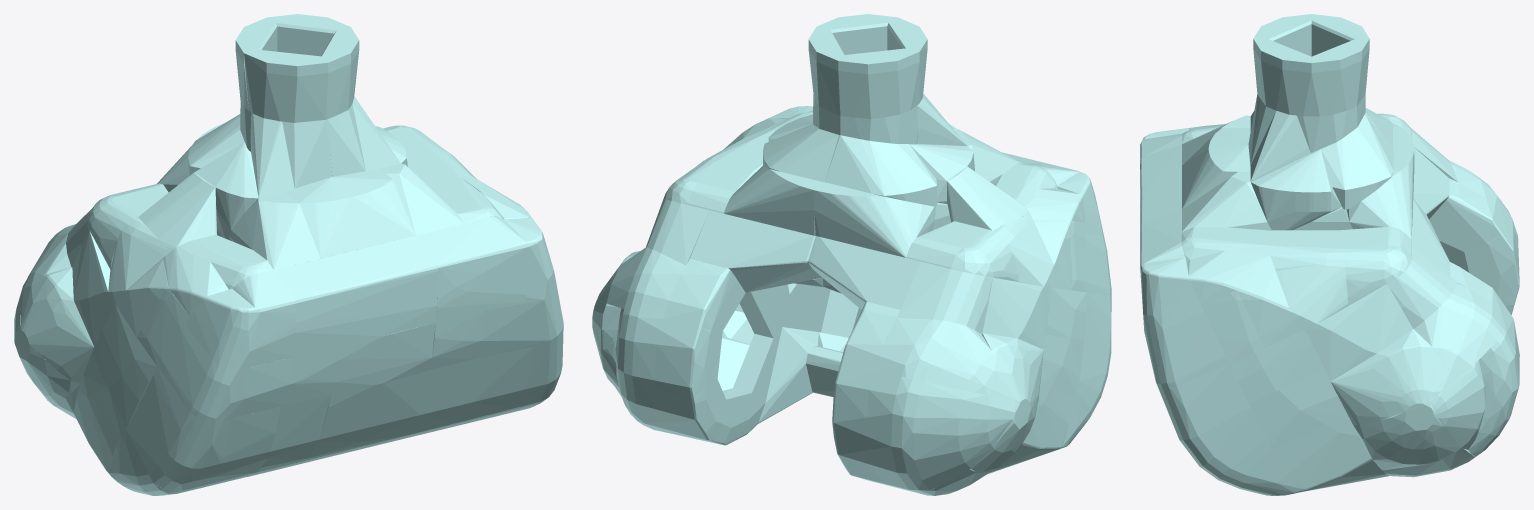
Rendered from R_SHOULDER_P_LINK_mesh.dae.
The picture shows the model from 3 angles, left to right: view 1: azimuth 30°, elevation 25°; view 2: azimuth 150°, elevation 25°; view 3: azimuth 270°, elevation 25°; orthographic projection. The views are drawn at different scales.
Visible parts, largest first — view 1: R_SHOULDER_P_LINK; view 2: R_SHOULDER_P_LINK; view 3: R_SHOULDER_P_LINK.
Part boxes in pixels (x1,y1,x2,y2): R_SHOULDER_P_LINK: (14,14,563,495); R_SHOULDER_P_LINK: (592,14,1111,495); R_SHOULDER_P_LINK: (1140,14,1519,495).
Bounding box in the file's own units: 0.1764 × 0.15 × 0.1403.
